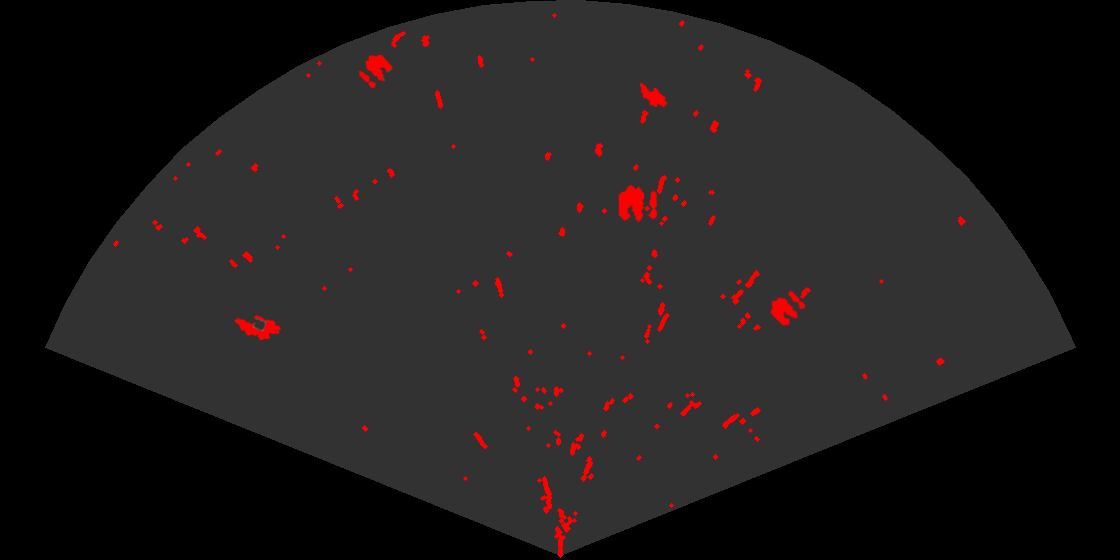AUV: (233, 314, 283, 342), (638, 81, 669, 109)
ball: (617, 184, 659, 224), (769, 289, 807, 327), (357, 53, 394, 90)
